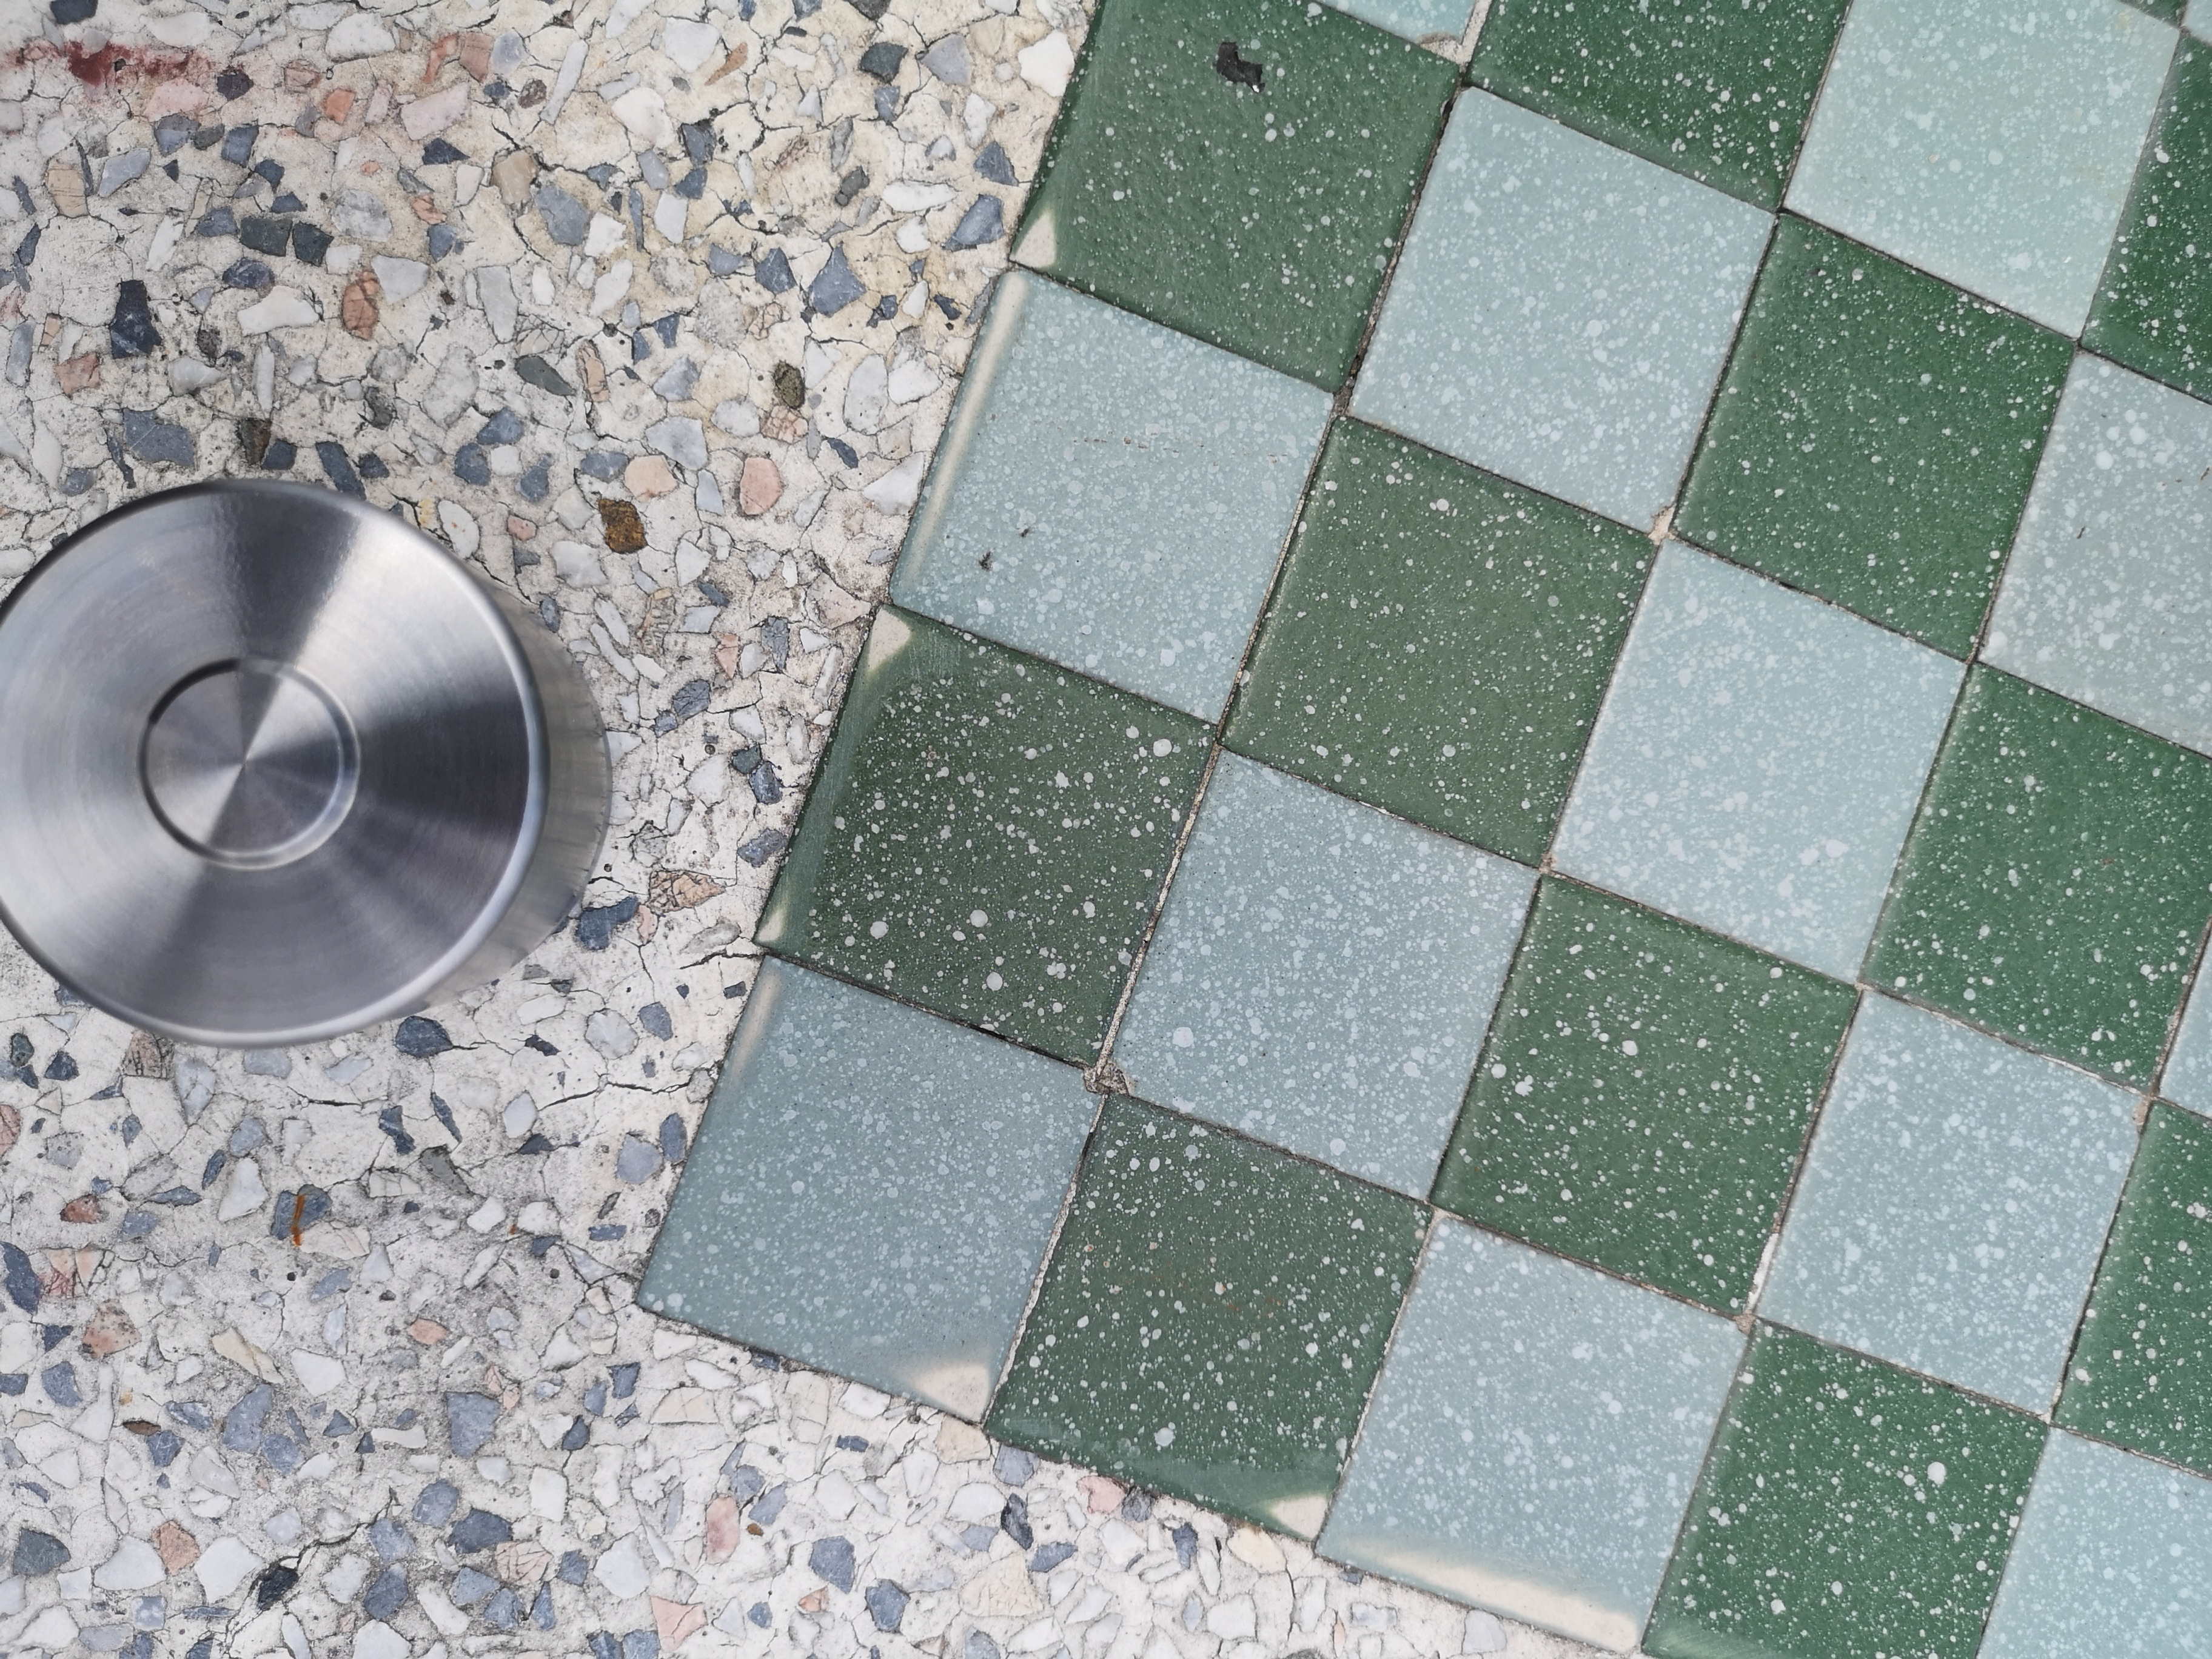ลูกสูบดิสเบรค: (3, 469, 590, 1056)
